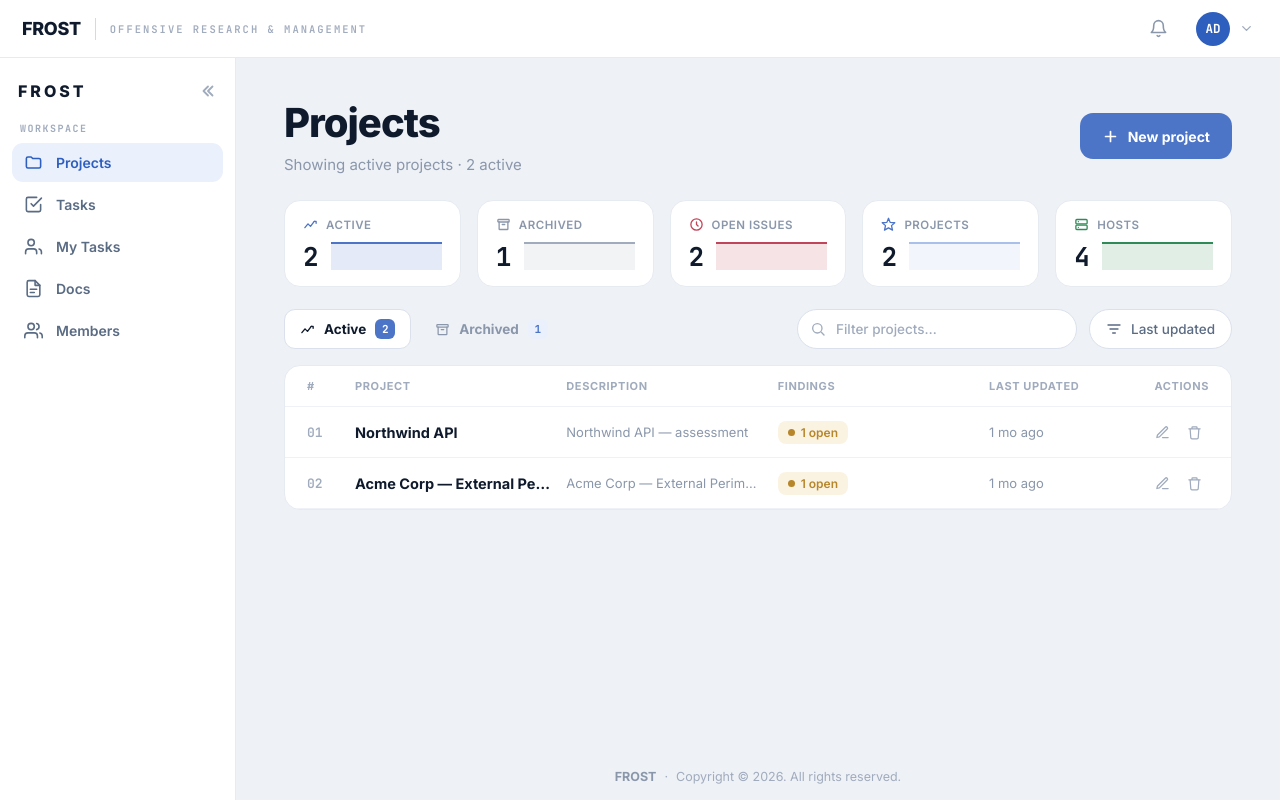
Test: FrostApp (design prototype port) › renders hosts loaded from the backend
Step 1. Click the text "Northwind API" → point(406, 432), box [355,424,458,440]
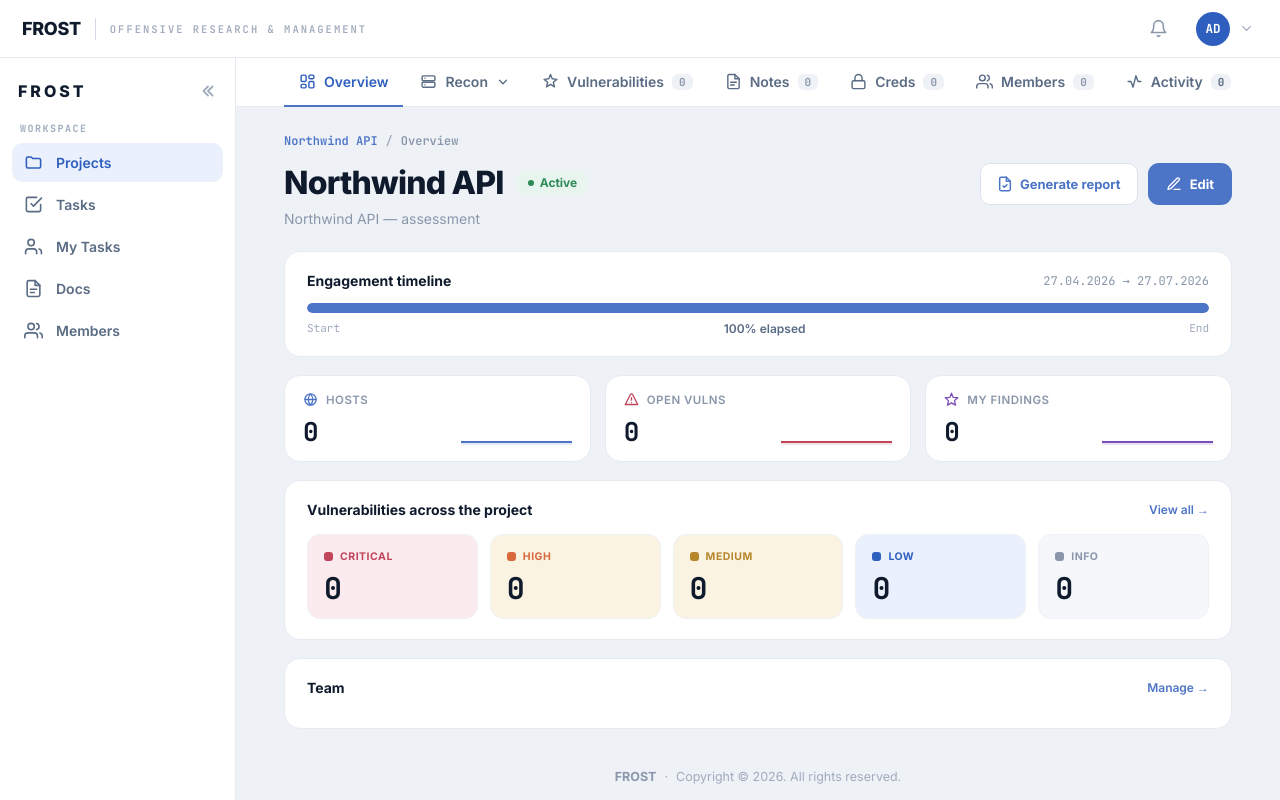
Step 2. Click the text "Hosts" → point(336, 400), box [303,392,368,407]
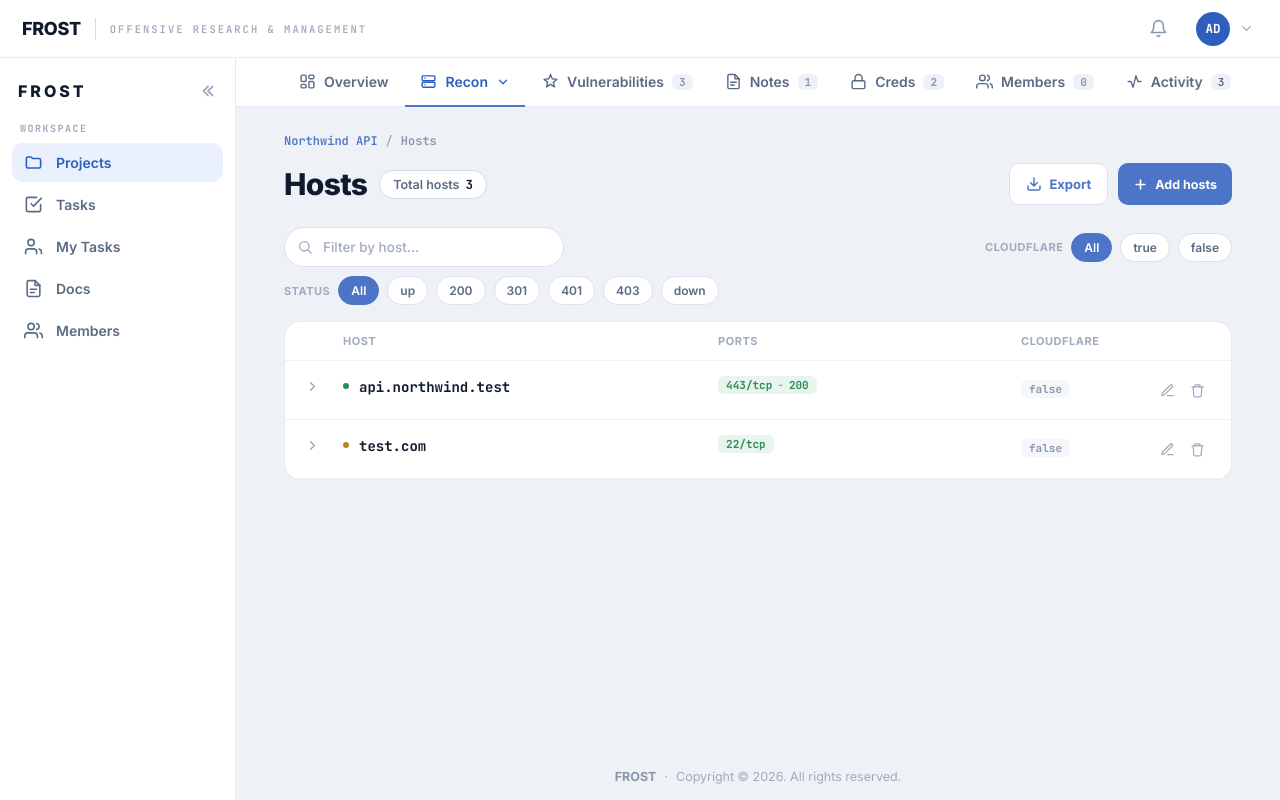
Now the text "api.northwind.test" is shown, box [359,378,510,396]
Now the text "test.com" is shown, box [359,437,426,455]
Now the text "443/tcp" is shown, box [726,378,772,392]
